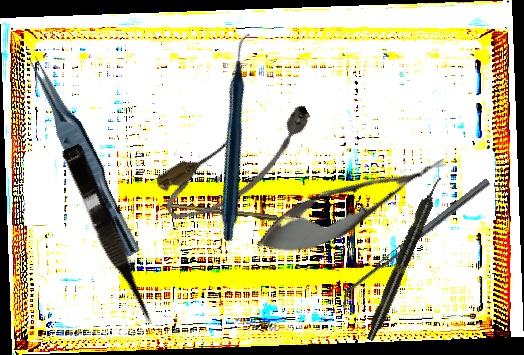Cannula: (150, 94, 328, 232)
Handpiece: (134, 30, 343, 244), (363, 174, 446, 343)
Hook Surgical: (169, 202, 295, 224)
Micro Scissor: (247, 137, 456, 272), (56, 143, 160, 331)
Spatula Surgical: (333, 178, 496, 309)
Tissue Forceps: (16, 52, 152, 259)
